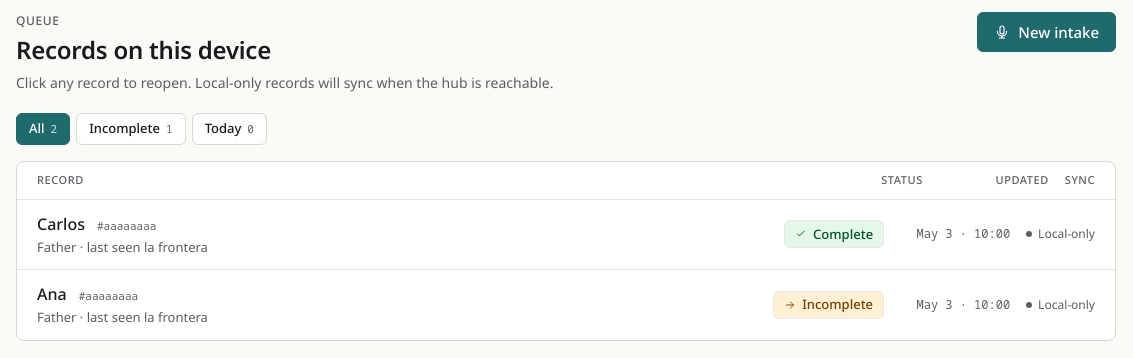
Test: QueueView › Test 3 — filter: incomplete excludes complete records
The width and height of the screenshot is (1133, 358).
Check: the text "Carlos" is shown, box [37,212,85,236]
Check: the text "Ana" is shown, box [37,282,67,306]
// The filter button is the first one (rendered before the record rows)
Click the button "Incomplete1" at (131, 129), box [76,113,186,145]
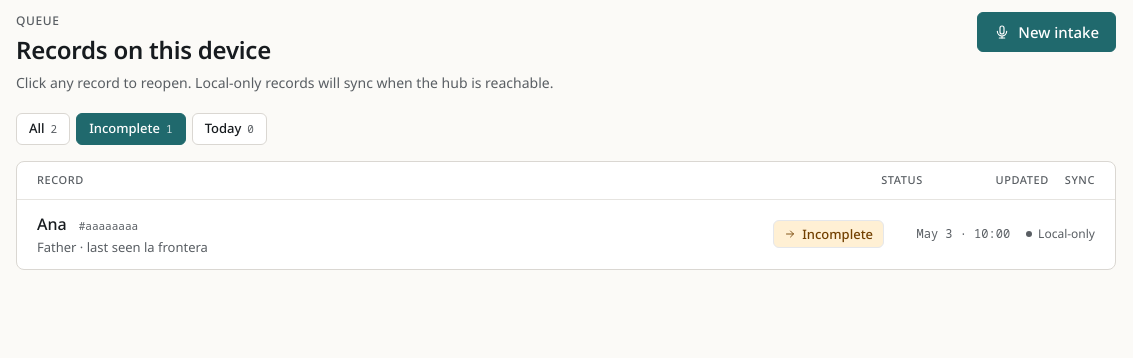
Check: the text "Ana" is shown, box [37,212,67,236]
Check: the button "Carlos" is gone
